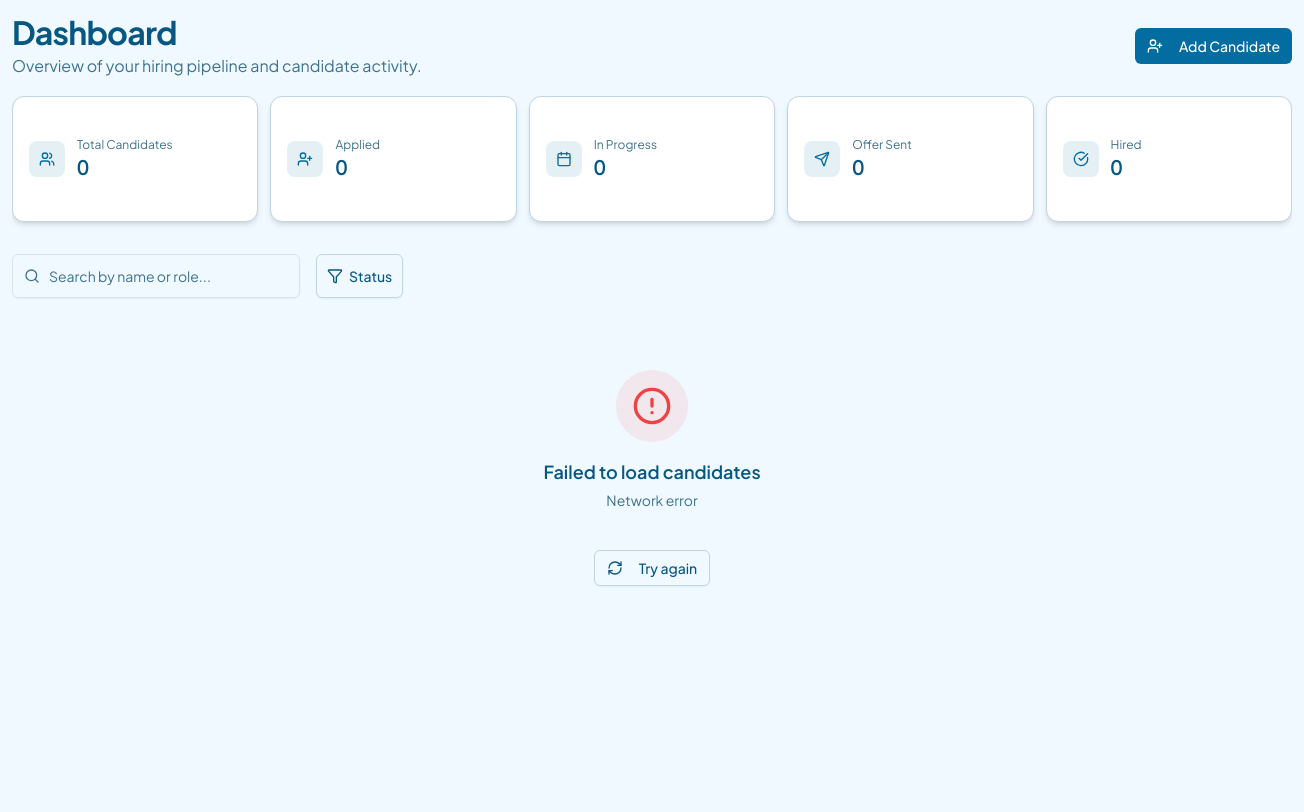
Test: DashboardPage › retries fetch when retry button is clicked
This screenshot has width=1304, height=812.
Expected: the heading "Failed to load candidates" is shown, [543,458,761,486]
Click the button "Try again" at (652,568), box [594,550,710,586]
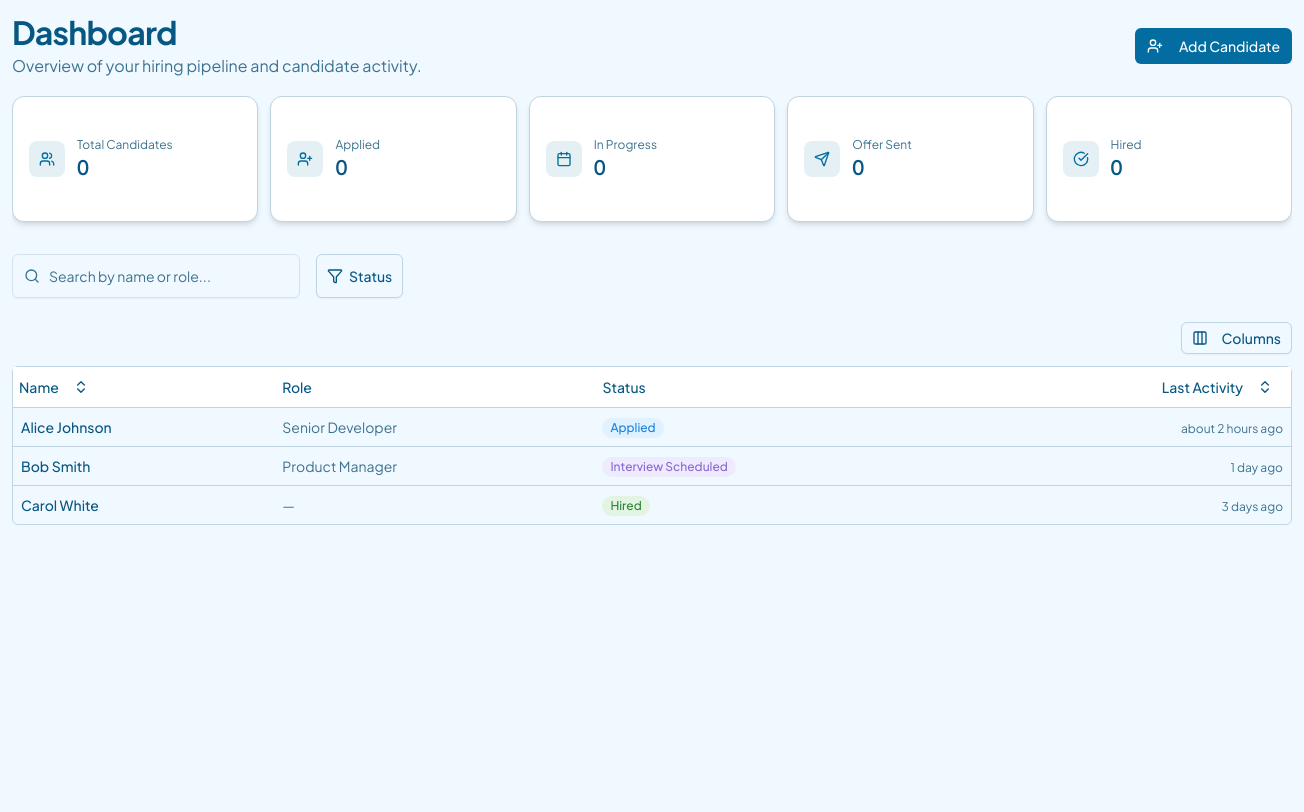
Expected: the text "Alice Johnson" is shown, [21,418,112,436]
